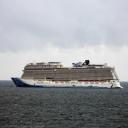cruises: (11, 60, 125, 91)
